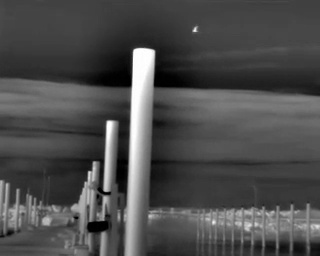BIRD: (191, 23, 201, 36)
